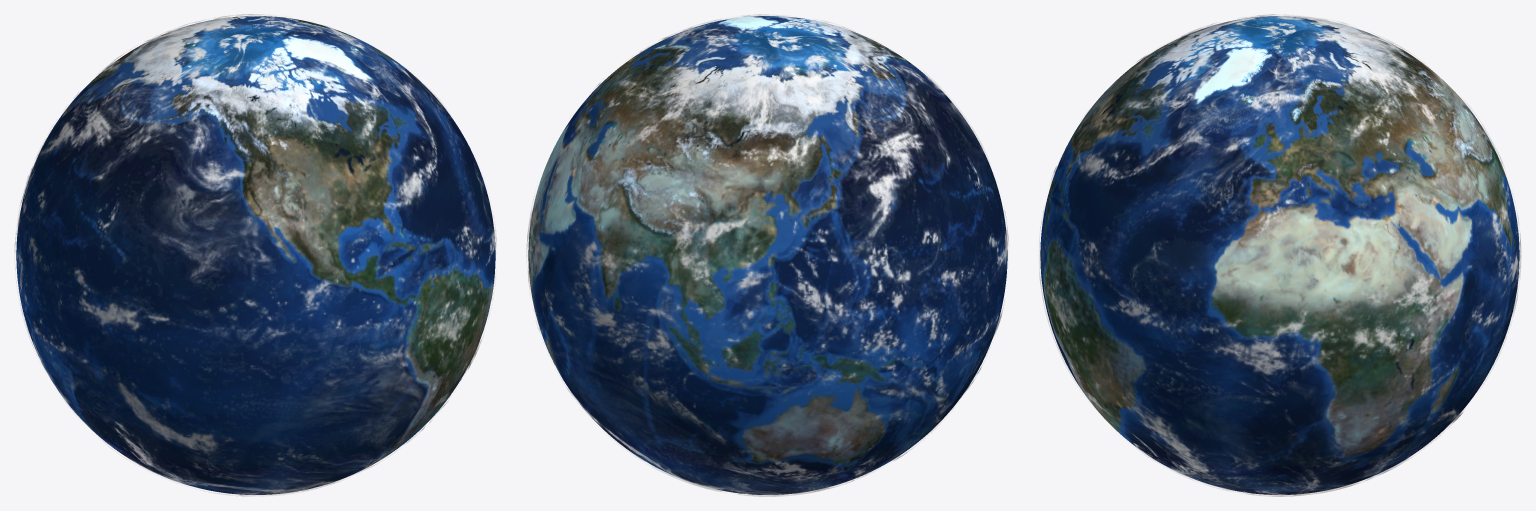
Rendered from earth.glb.
3 renders of one model, left to right at view 1: azimuth 30°, elevation 25°; view 2: azimuth 150°, elevation 25°; view 3: azimuth 270°, elevation 25°, orthographic.
Visible parts, largest first — view 1: Earth, Clouds; view 2: Earth, Clouds; view 3: Earth, Clouds.
Part boxes in pixels (<box>): Earth: <box>16,16,495,494</box>; Clouds: <box>14,14,496,496</box>; Earth: <box>528,16,1007,494</box>; Clouds: <box>526,14,1008,496</box>; Earth: <box>1040,16,1519,494</box>; Clouds: <box>1039,14,1521,496</box>.
Bounding box in the file's own units: 2.02 × 2.02 × 2.02.
2 materials, 2 textured.
